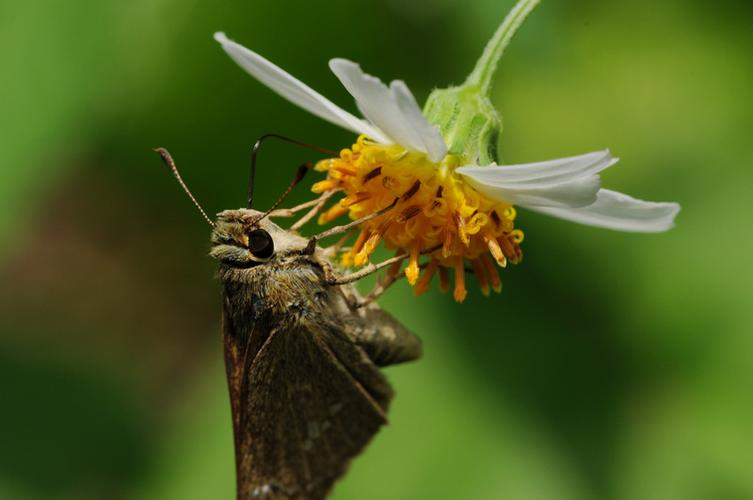Hesperiidae: (150, 128, 424, 499)
